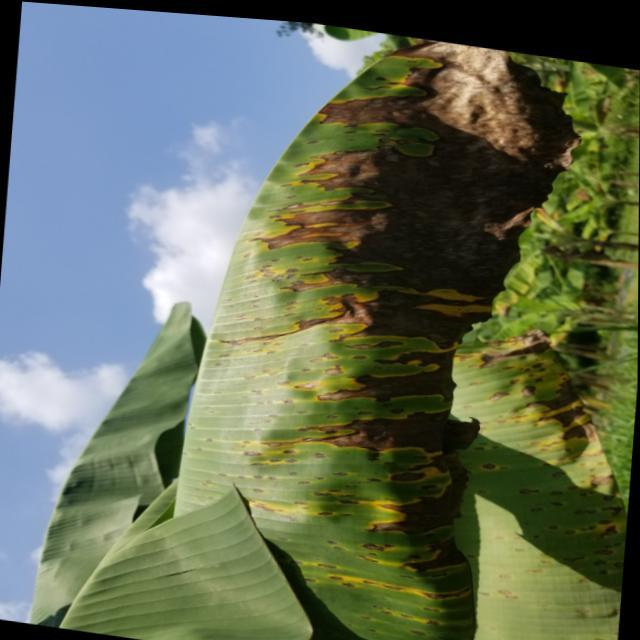Early_rust: (152, 7, 578, 640)
